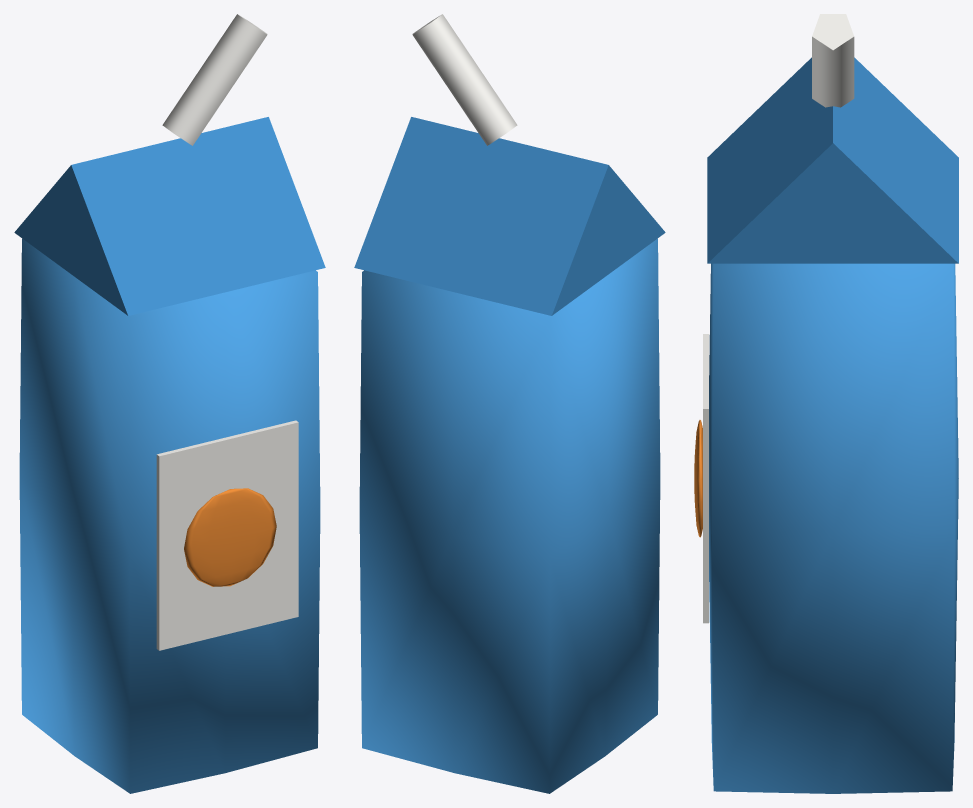
Rendered from juice_carton.glb.
The picture shows the model from 3 angles, left to right: view 1: azimuth 30°, elevation 25°; view 2: azimuth 150°, elevation 25°; view 3: azimuth 270°, elevation 25°; orthographic projection. The views are drawn at different scales.
Parts seen in each view (by area): view 1: root; view 2: root; view 3: root.
Boxes of the visible parts, x1=… form: root: x1=14, y1=14, x2=325, y2=793; root: x1=354, y1=14, x2=665, y2=793; root: x1=694, y1=14, x2=958, y2=793.
Size of the model in its own units: 0.17 by 0.5761 by 0.179.
